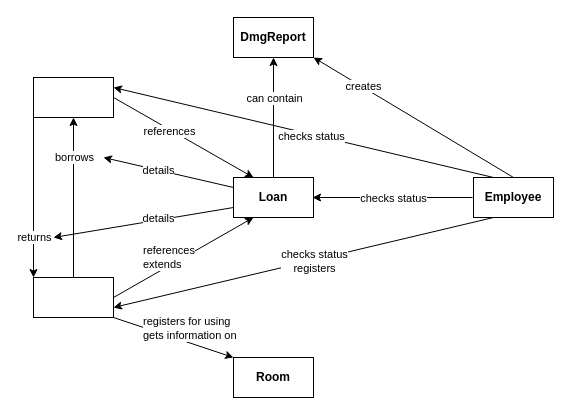
Some shapes in this 571 by 415 pixel diagram are drawn without their labels. The box of each missing label's shape, as (x1, y1, x2, y2) in pixels:
MediaArticle: (32, 76, 114, 118)
Member: (32, 276, 114, 318)
